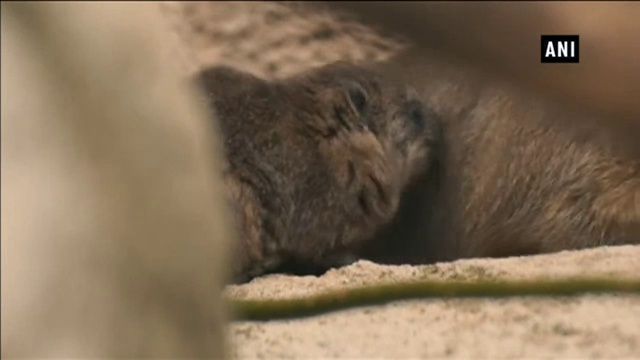Rock Hyrex: (371, 44, 640, 262), (176, 65, 442, 281)
